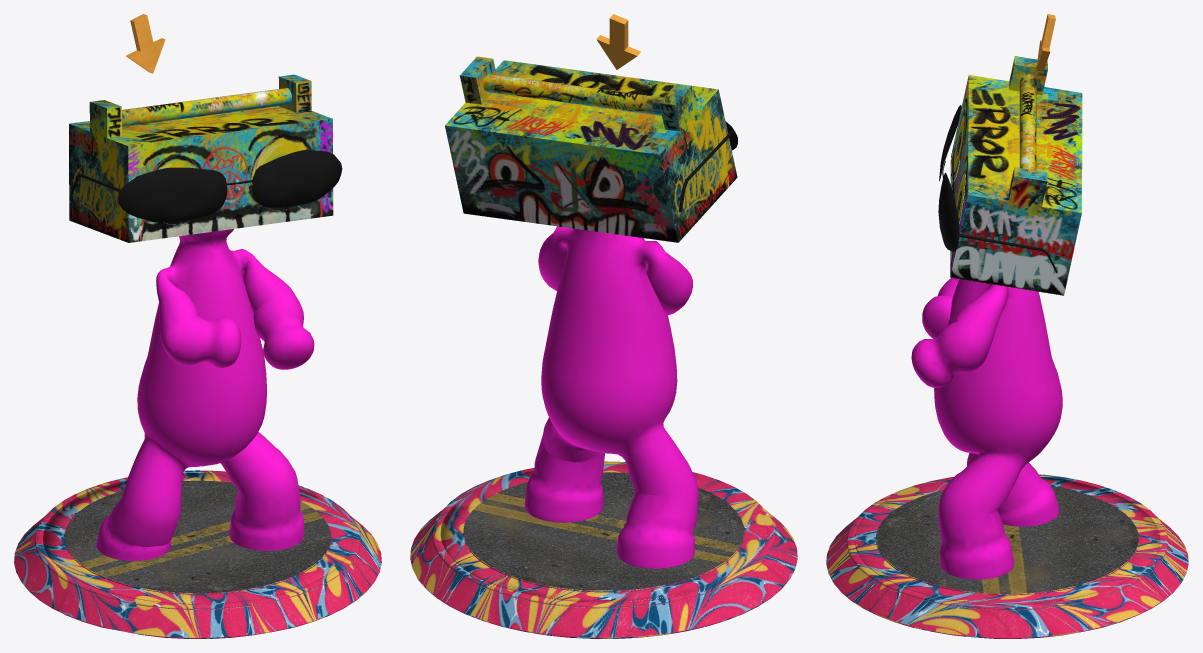
3 views of the same model, side by side, from view 1: azimuth 30°, elevation 25°; view 2: azimuth 150°, elevation 25°; view 3: azimuth 270°, elevation 25° (orthographic). The views are drawn at different scales.
Parts seen in each view (by area): view 1: BBody; view 2: BBody; view 3: BBody.
Boxes of the visible parts, left/top/right/bottom form: BBody: left=14, top=14, right=381, bottom=638; BBody: left=410, top=14, right=797, bottom=638; BBody: left=826, top=14, right=1188, bottom=638.
Size of the model in its own units: 1.45 by 2.34 by 1.45.
Materials: 6 (4 with a texture image).
